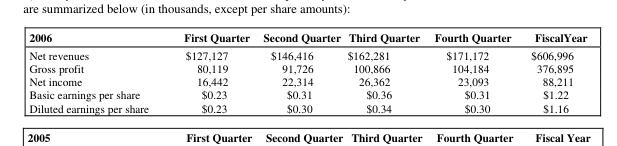table: (28, 28, 586, 114)
table column: (28, 28, 165, 114), (426, 28, 520, 114), (165, 28, 255, 114), (255, 28, 343, 114), (343, 28, 426, 114), (520, 28, 586, 114)
table column header: (28, 28, 586, 45)
table row: (28, 28, 586, 45), (28, 45, 586, 61), (28, 100, 586, 114), (28, 61, 586, 74), (28, 74, 586, 87), (28, 87, 586, 100)
